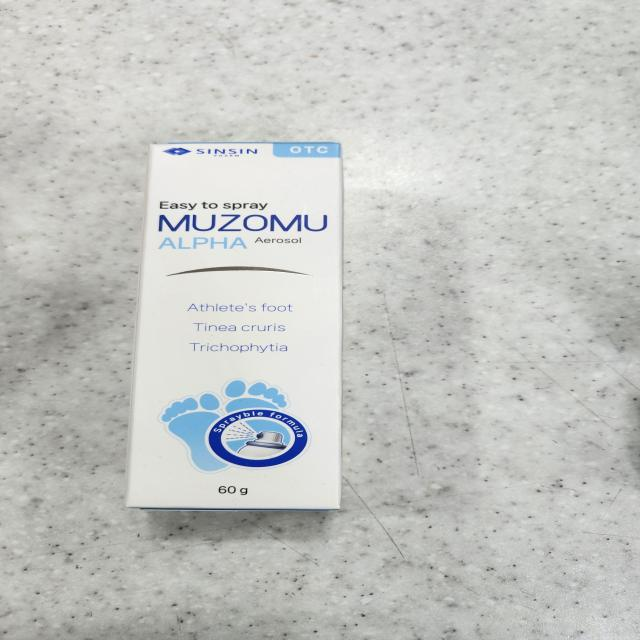box: (129, 142, 342, 508)
